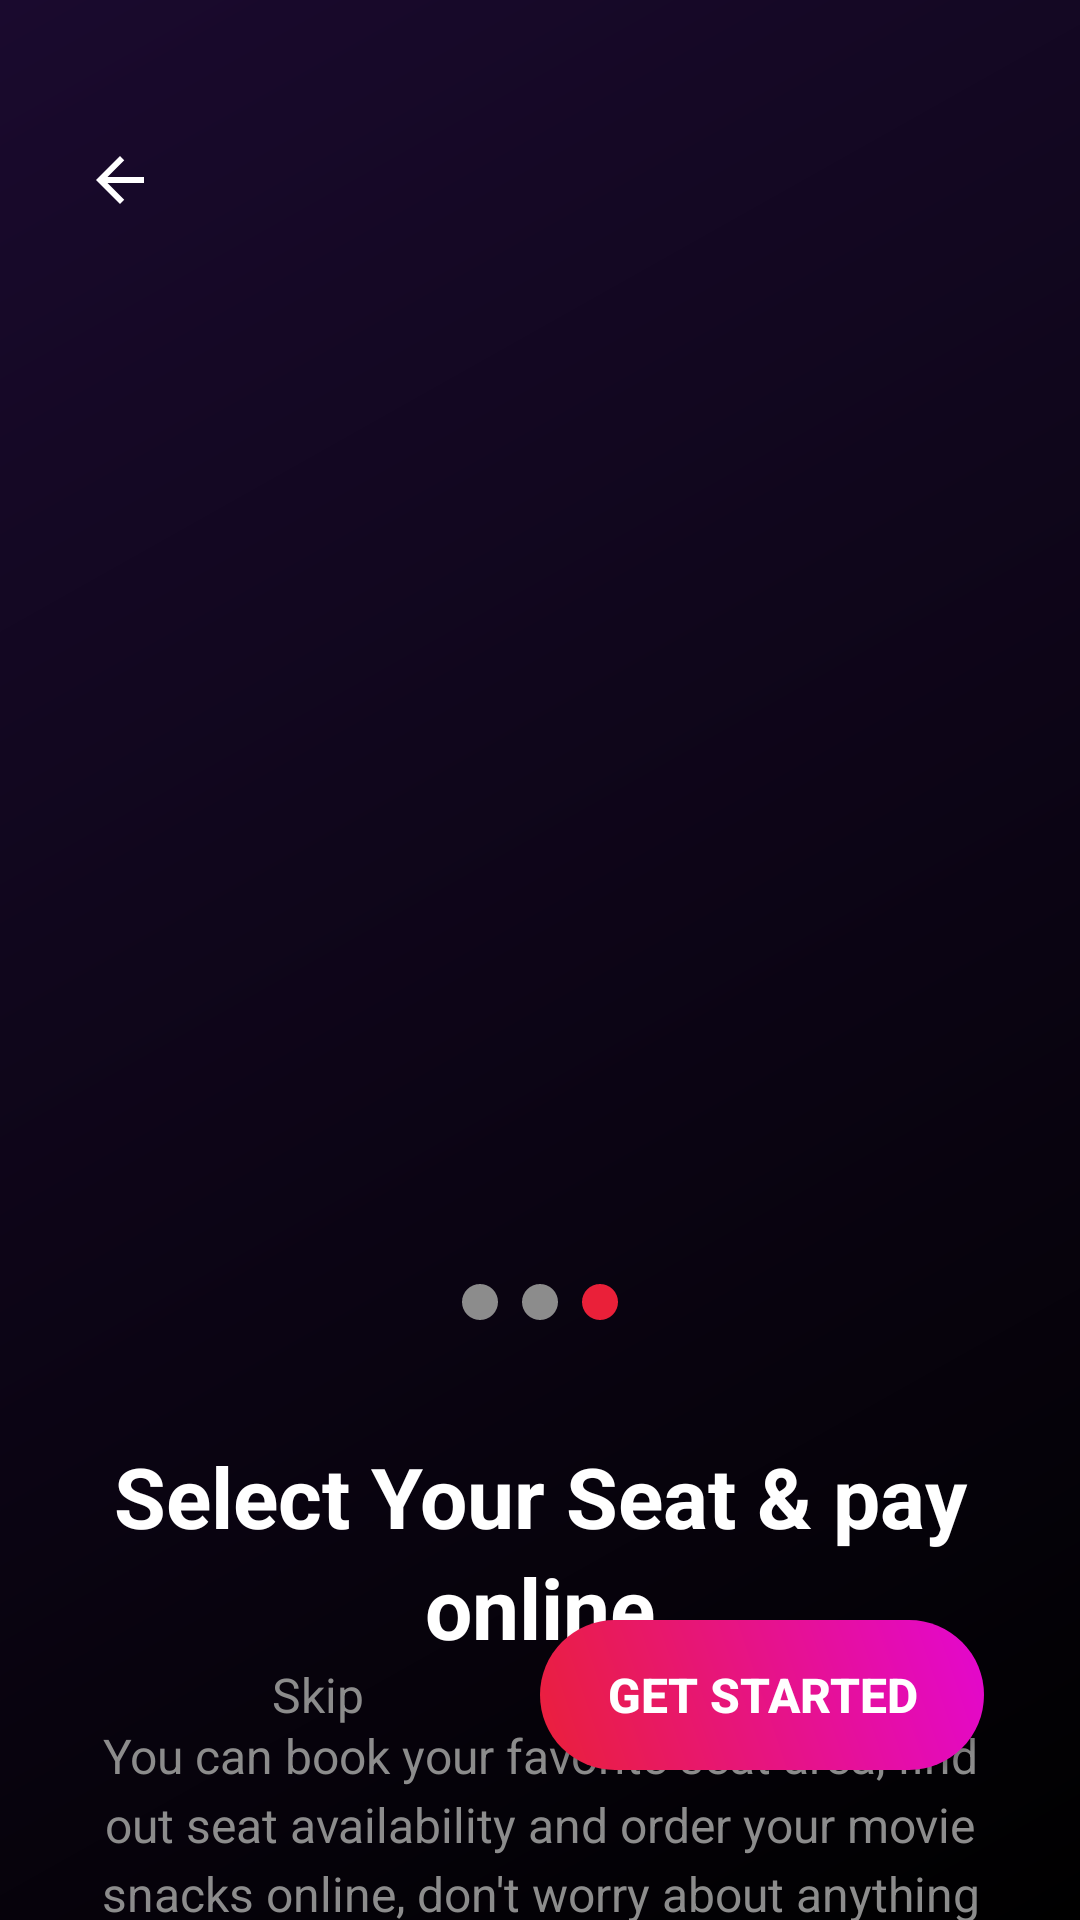

Point at icon controls on the screen. Image size 1080x1920, points as (x,y).
back arrow: (120,180)
dot: (480,1302), (540,1302), (600,1302)
